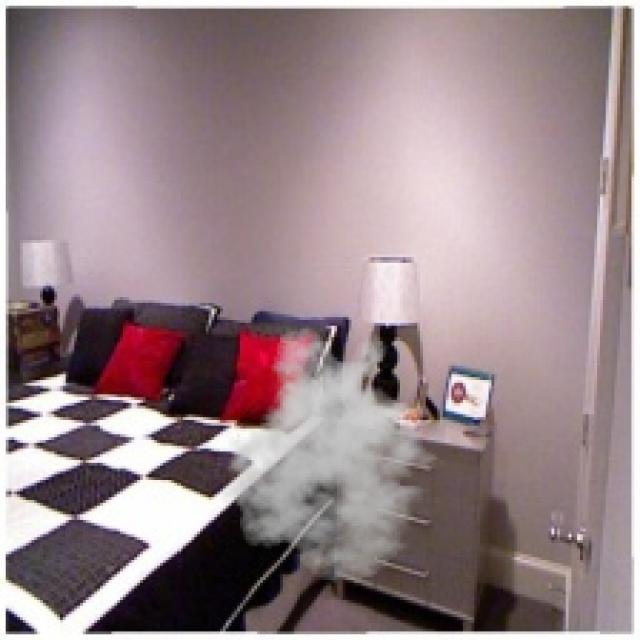smoke: (214, 326, 449, 583)
